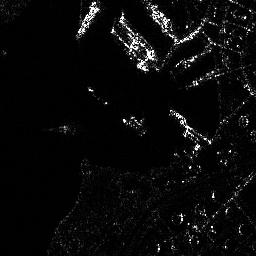ship: (109, 25, 149, 73), (119, 12, 157, 60), (145, 1, 176, 31), (75, 1, 97, 39)
